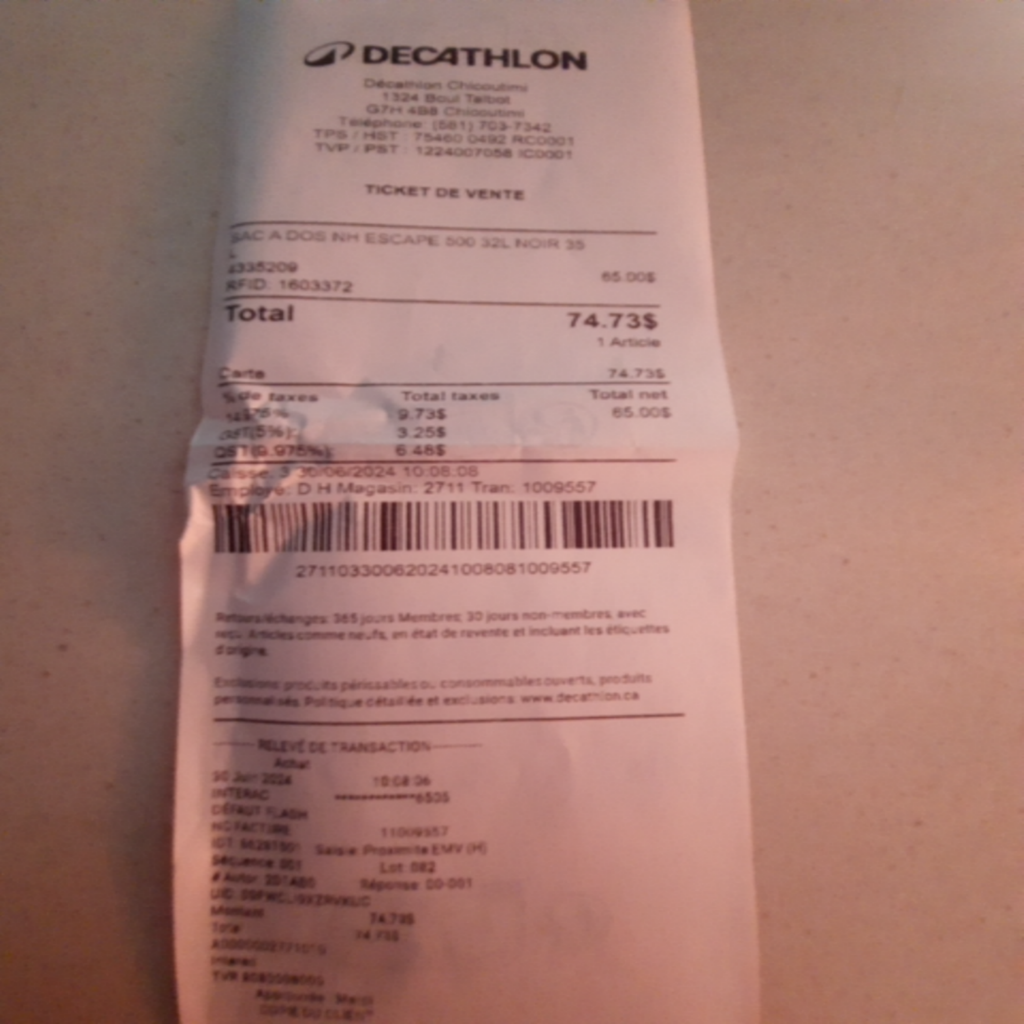recipt: (174, 8, 764, 1009)
